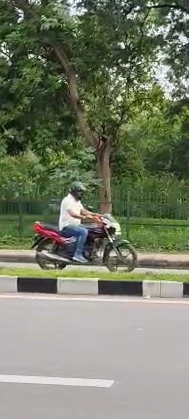BikeWithRider: (31, 179, 138, 272)
Helmet: (68, 180, 86, 201)
